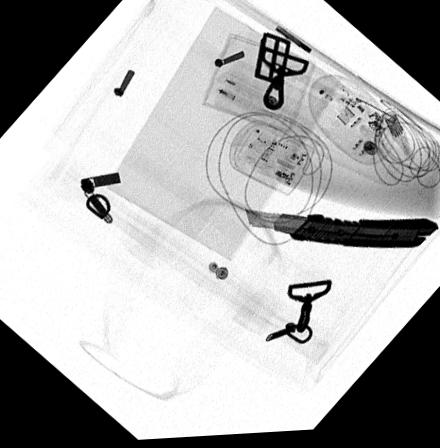Knife: (241, 210, 438, 253)
